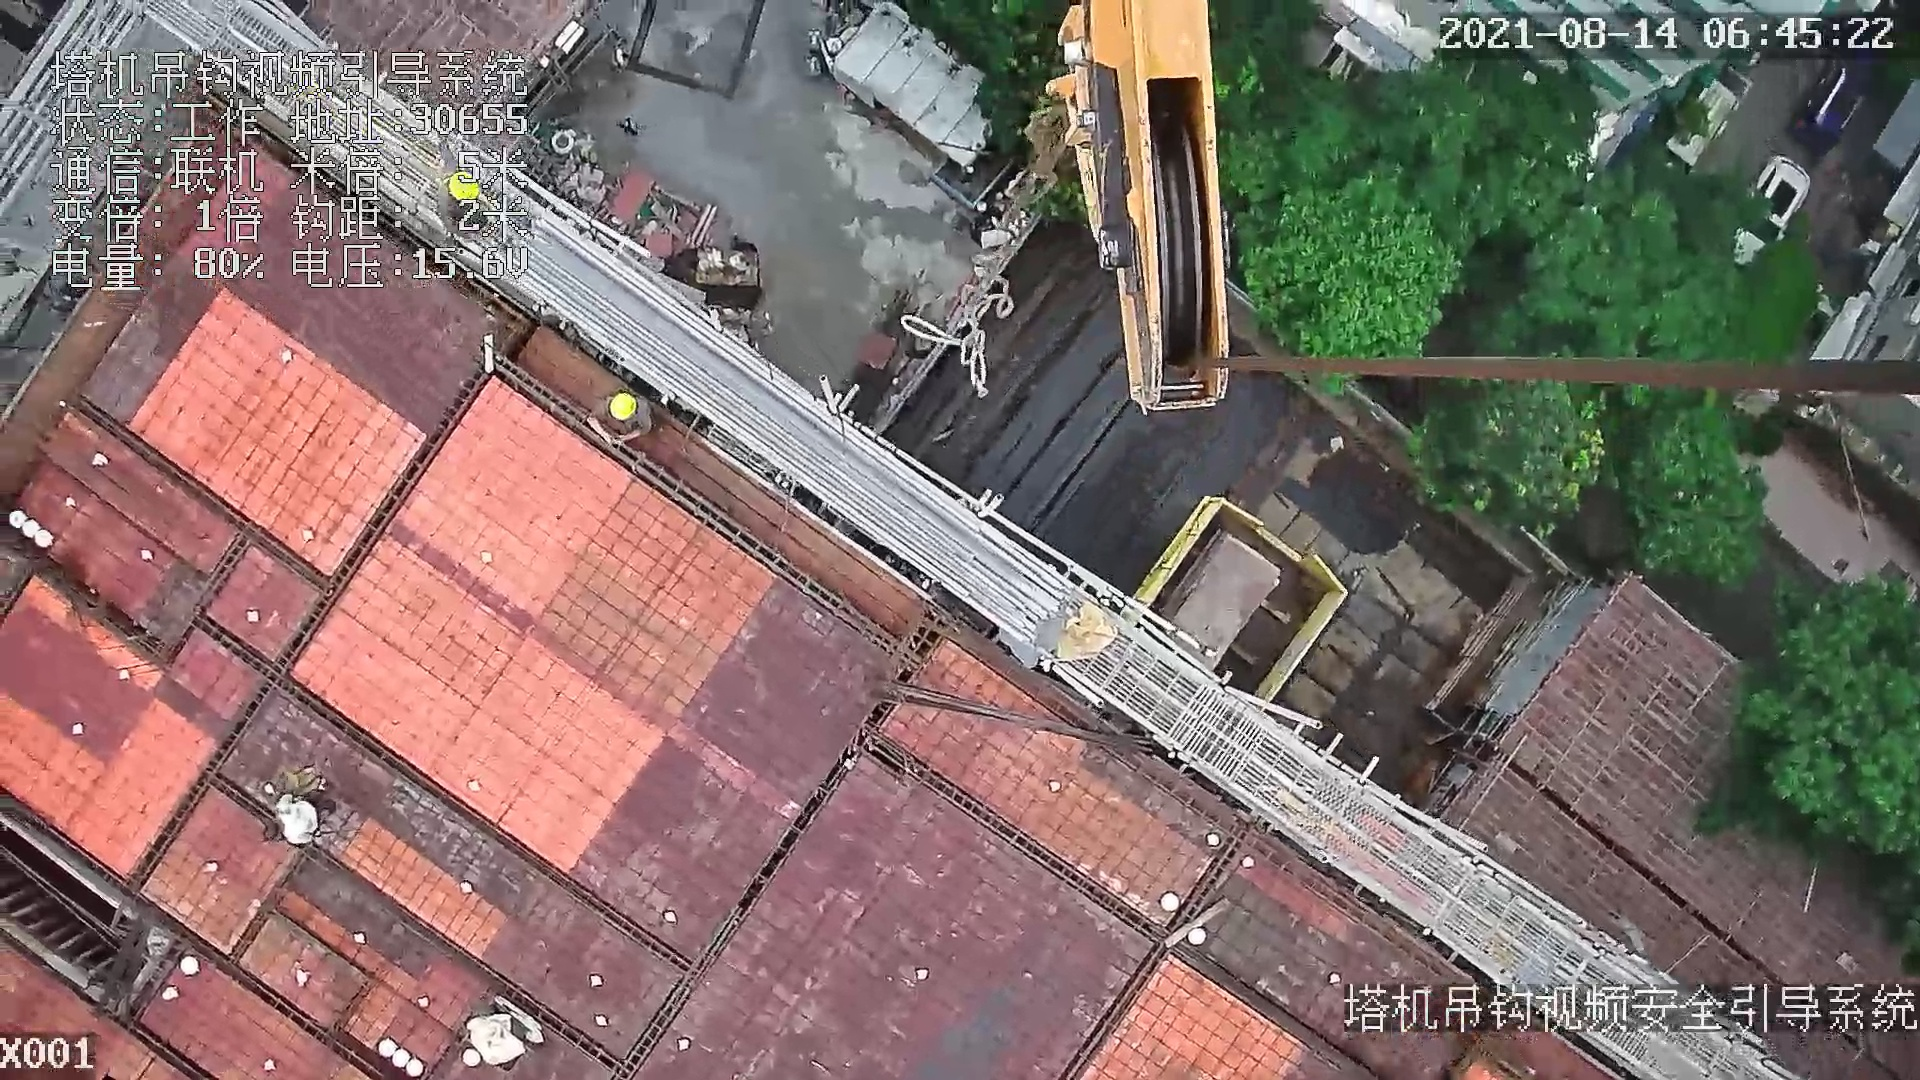board: (1156, 528, 1274, 663)
helmet: (448, 175, 482, 201), (610, 391, 638, 422)
hook: (1035, 1, 1237, 419)
person: (264, 782, 344, 846), (583, 385, 660, 444)
